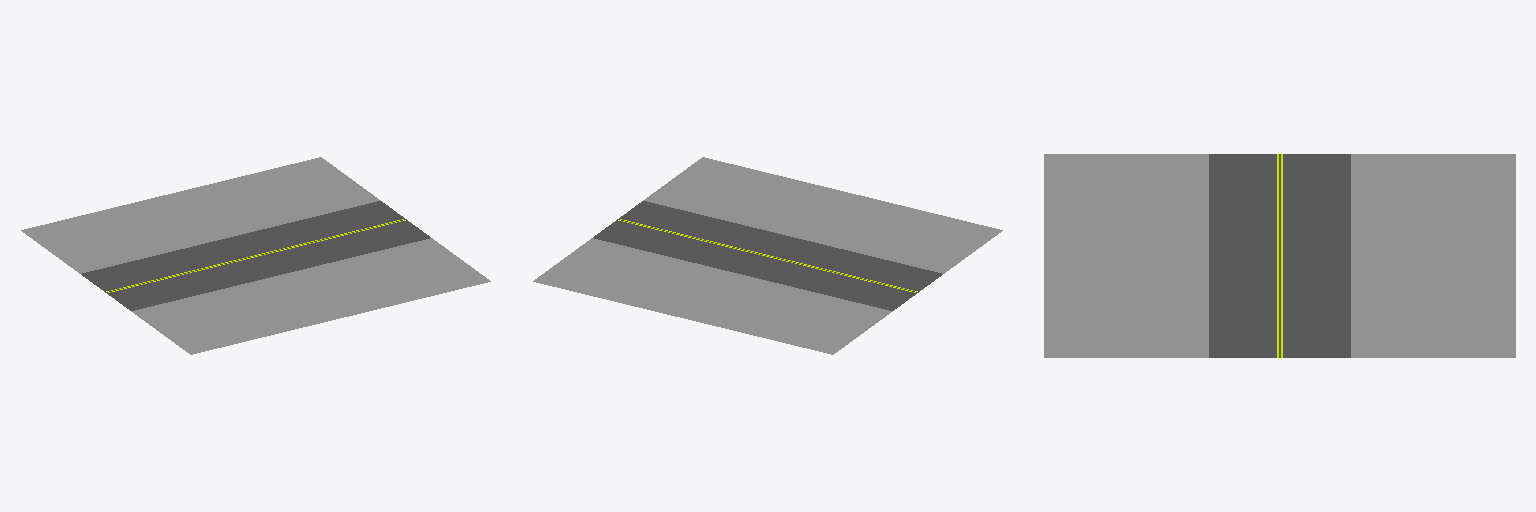
The robot description file, URDF, robot "road":
<?xml version="1.0"?> 

<!-- Copyright 2023 [author] -->

<!-- Licensed under the Apache License, Version 2.0 (the "License"); -->
<!-- you may not use this file except in compliance with the License. -->
<!-- You may obtain a copy of the License at -->

<!--     http://www.apache.org/licenses/LICENSE-2.0 -->

<!-- Unless required by applicable law or agreed to in writing, software -->
<!-- distributed under the License is distributed on an "AS IS" BASIS, -->
<!-- WITHOUT WARRANTIES OR CONDITIONS OF ANY KIND, either express or implied. -->
<!-- See the License for the specific language governing permissions and -->
<!-- limitations under the License. -->

<!-- Authors: [author], [author] -->

<robot name="road">
    <!-- Colors --> 
    <material name="grey"> 
        <color rgba="0.65 0.65 0.65 1"/>
    </material>

    <!-- Plane -->
    <link name="ground">
        <visual> 
            <geometry> 
                <mesh filename='meshes/ground_urban.stl'/>
                <origin rpy="0 0 0" xyz="0 0 0"/>
            </geometry>
            <material name="grey"/>
        </visual>
        <collision> 
             <geometry> 
                <mesh filename='meshes/ground_urban.stl'/>
                <origin rpy="0 0 0" xyz="0 0 0"/>
            </geometry>
        </collision> 
        <inertial> 
            <mass value="0"/>
            <inertia ixx="0" ixy="0" ixz="0" iyy="0" iyz="0" izz="0"/>
        </inertial> 
        <contact> 
            <lateral_friction value="4"/>
        </contact>
    </link>
    <link name="road">
        <visual> 
            <geometry> 
                <mesh filename='meshes/road.stl'/>
                <origin rpy="0 0 0" xyz="0 0 0"/>
            </geometry>
            <material name="black">
                <color rgba='0.4 0.4 0.4 1'/>
            </material>
        </visual>
        <collision> 
             <geometry> 
                <mesh filename='meshes/road.stl'/>
                <origin rpy="0 0 0" xyz="0 0 0"/>
            </geometry>
        </collision> 
        <inertial> 
            <mass value="0"/>
            <inertia ixx="0" ixy="0" ixz="0" iyy="0" iyz="0" izz="0"/>
        </inertial> 
        <contact> 
            <lateral_friction value="4"/>
        </contact>
    </link>
    <joint name="road_ground" type="fixed">
        <origin rpy="0 0 0" xyz="0 0 0"/>
        <parent link="ground"/>
        <child link="road"/>
    </joint>
    <link name="lines">
        <visual> 
            <geometry> 
                <mesh filename='meshes/road_lines.stl'/>
                <origin rpy="0 0 0" xyz="0 0 0"/>
            </geometry>
            <material name="yellow">
                <color rgba='0.9 1 0 1'/>
            </material>
        </visual>
        <collision> 
             <geometry> 
                <mesh filename='meshes/road_lines.stl'/>
                <origin rpy="0 0 0" xyz="0 0 0"/>
            </geometry>
        </collision> 
        <inertial> 
            <mass value="0"/>
            <inertia ixx="0" ixy="0" ixz="0" iyy="0" iyz="0" izz="0"/>
        </inertial> 
        <contact> 
            <lateral_friction value="4"/>
        </contact>
    </link>
    <joint name="road_lines" type="fixed">
        <origin rpy="0 0 0" xyz="0 0 0.00015"/>
        <parent link="ground"/>
        <child link="lines"/>
    </joint>
</robot>

--- What the picture shows (computed from the rendered views, not written in the file) ---
3 views of the same robot in one strip: view 1: azimuth 30°, elevation 25°; view 2: azimuth 150°, elevation 25°; view 3: azimuth 270°, elevation 25° (orthographic).
Robot: road — 3 links, 2 joints (2 fixed); root link ground; default pose: all joints at 0.
Links seen in each view (by area): view 1: ground, road; view 2: ground, road; view 3: ground, road, lines.
Link boxes in pixels (<box>): ground: <box>21,157,490,354</box>; road: <box>81,201,430,310</box>; ground: <box>533,157,1002,354</box>; road: <box>593,201,942,310</box>; ground: <box>1044,154,1515,357</box>; road: <box>1209,154,1350,357</box>; lines: <box>1277,154,1282,357</box>.
Bounding box of the posed robot: 51 × 50 × 0.0002 m (x, y, z).
Meshes: 3 distinct files referenced, 3 mesh visuals loaded (3 binary STL).
